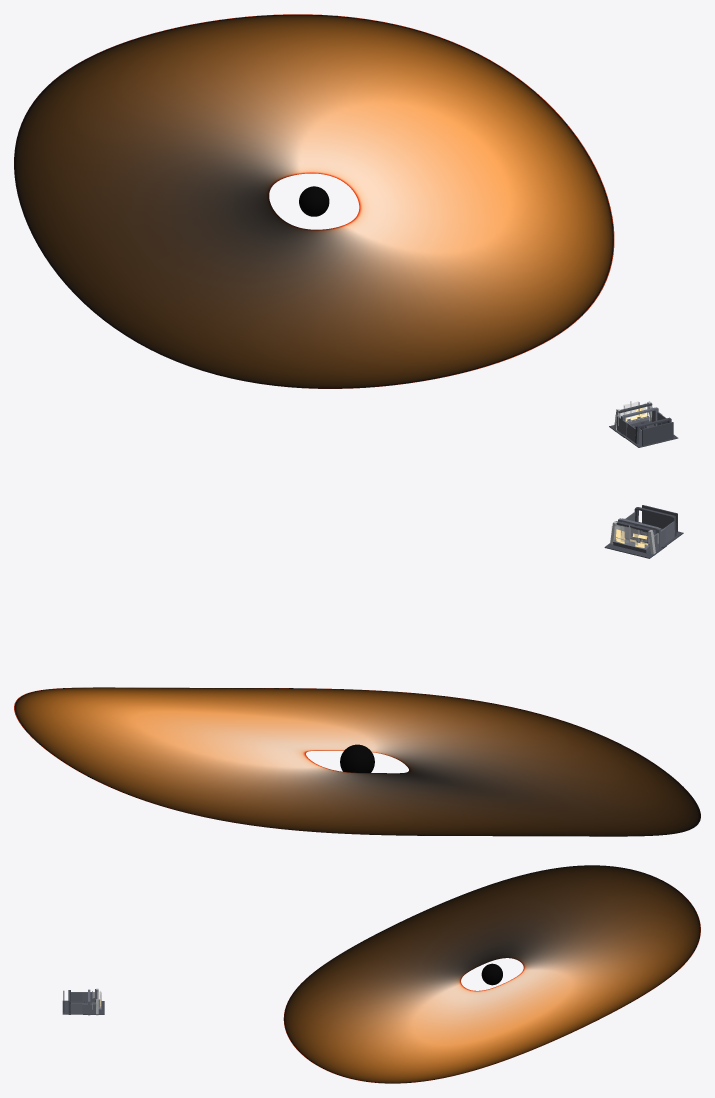
The model's file is deck.glb.
The picture shows the model from 3 angles, top to bottom: view 1: azimuth 30°, elevation 25°; view 2: azimuth 150°, elevation 25°; view 3: azimuth 270°, elevation 25°; orthographic projection. The views are drawn at different scales.
Visible parts, largest first — view 1: BH_AccretionDisk, BH_EventHorizon; view 2: BH_AccretionDisk, BH_EventHorizon; view 3: BH_AccretionDisk, BH_EventHorizon.
Part boxes in pixels (x1,y1,x2,y2): BH_AccretionDisk: (14,14,614,388); BH_EventHorizon: (299,186,329,216); BH_AccretionDisk: (14,687,700,836); BH_EventHorizon: (340,744,374,772); BH_AccretionDisk: (283,865,700,1083); BH_EventHorizon: (481,963,502,985).
Bounding box in the file's own units: 80 × 18.39 × 128.
9 materials, 1 textured.
